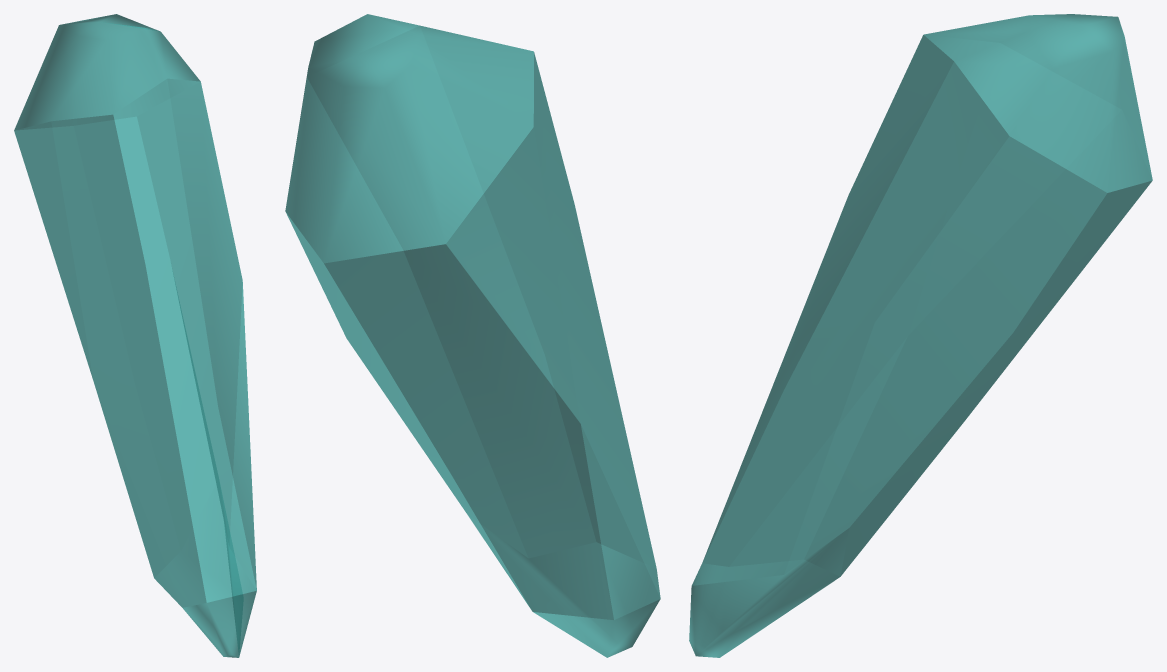
File: fragment.fbx
3 renders of one model, left to right at view 1: azimuth 30°, elevation 25°; view 2: azimuth 150°, elevation 25°; view 3: azimuth 270°, elevation 25°, orthographic. The views are drawn at different scales.
Visible parts, largest first — view 1: pCylinder6; view 2: pCylinder6; view 3: pCylinder6.
Part boxes in pixels (x1,y1,x2,y2): pCylinder6: (14, 14, 256, 657); pCylinder6: (285, 14, 660, 657); pCylinder6: (689, 14, 1152, 657).
Size of the model in its own units: 0.1598 by 0.5237 by 0.3376.
